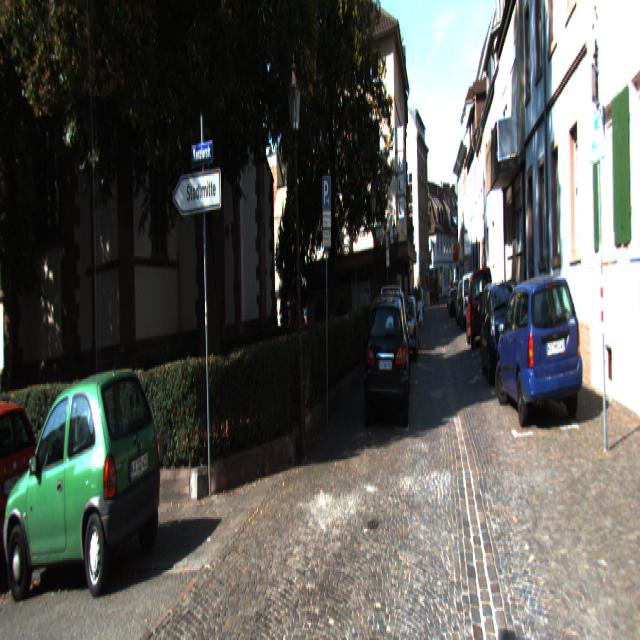Car: (2, 358, 170, 613), (495, 269, 589, 441), (363, 296, 414, 434), (481, 279, 535, 387), (466, 264, 493, 346), (396, 294, 419, 358)
